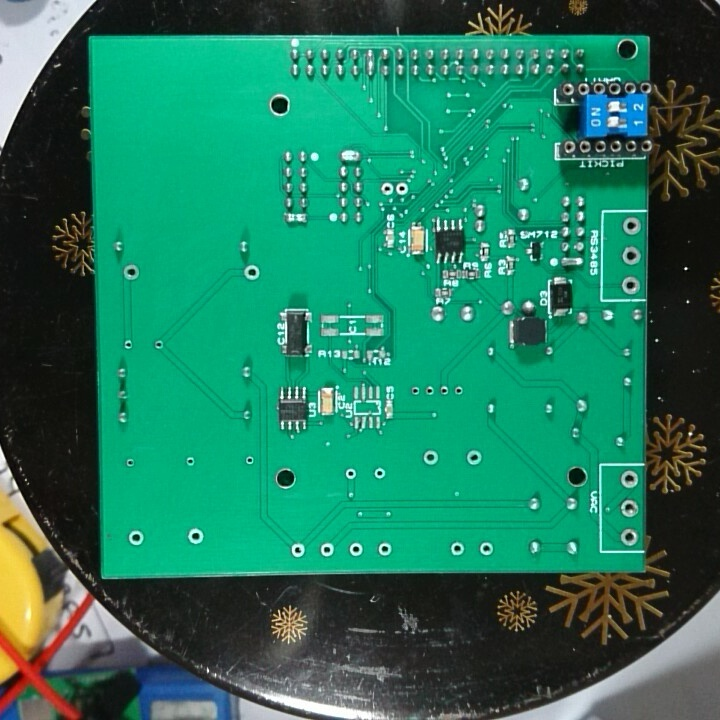F: (621, 215, 643, 239), (619, 468, 641, 492), (462, 447, 486, 469), (621, 245, 643, 267), (125, 527, 146, 550), (241, 263, 263, 284), (119, 262, 141, 283), (619, 497, 639, 520), (620, 275, 641, 296), (185, 526, 205, 547), (421, 447, 441, 468), (288, 541, 308, 560), (376, 540, 394, 559), (619, 525, 636, 545), (448, 539, 466, 557), (347, 540, 365, 558), (342, 465, 359, 484), (378, 180, 395, 198), (478, 540, 494, 559), (395, 180, 411, 199), (319, 540, 335, 557), (243, 452, 259, 469), (371, 466, 387, 482), (450, 384, 466, 400), (151, 337, 167, 353), (184, 454, 199, 471), (121, 338, 137, 352), (123, 455, 136, 471), (437, 384, 450, 399), (409, 383, 421, 398), (424, 384, 436, 398)
P: (281, 210, 311, 227), (559, 255, 586, 271), (364, 46, 376, 80), (337, 148, 362, 163)
